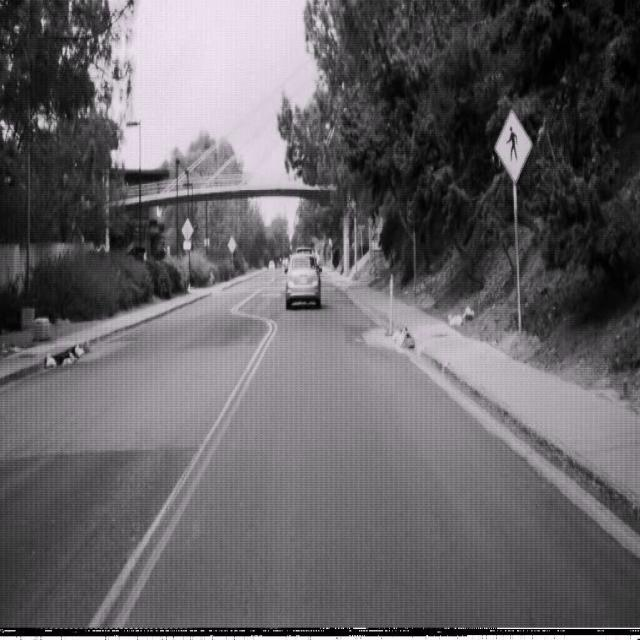pedestrianCrossing: (494, 106, 532, 182)
